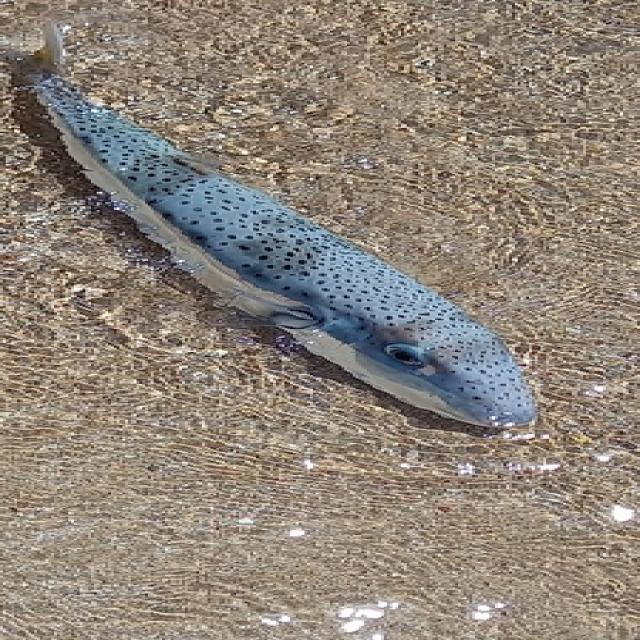Balik: (20, 26, 534, 427)
